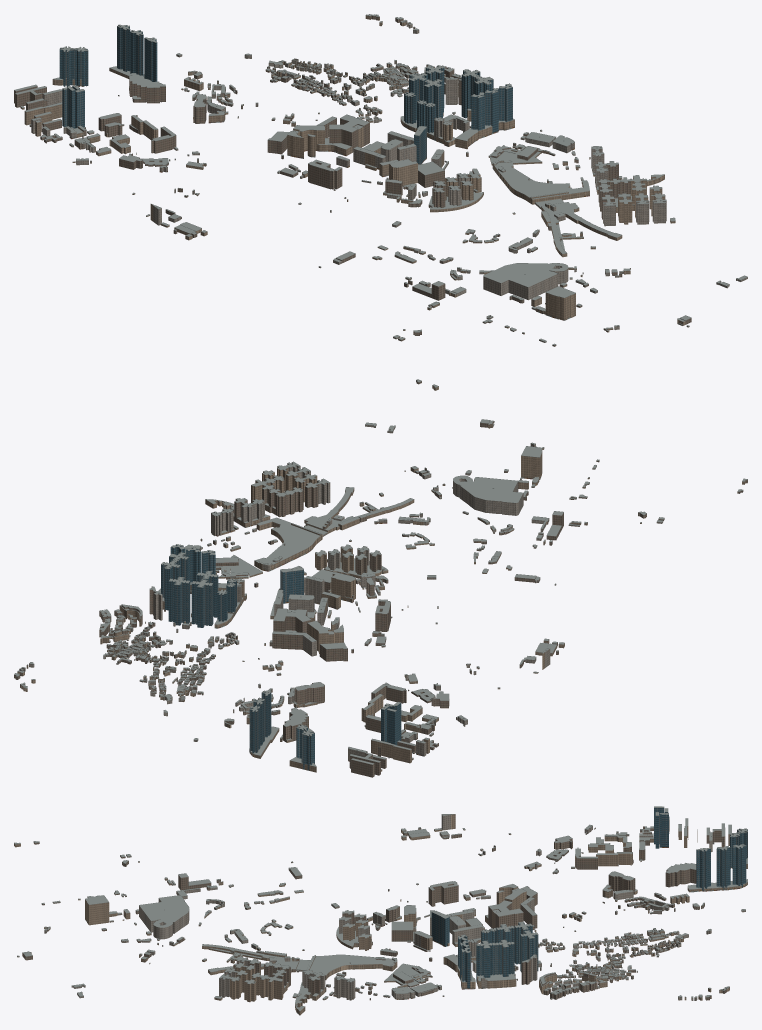
Rendered from lai-chi-kok-west-buildings.glb.
The picture shows the model from 3 angles, top to bottom: view 1: azimuth 30°, elevation 25°; view 2: azimuth 150°, elevation 25°; view 3: azimuth 270°, elevation 25°; orthographic projection. The views are drawn at different scales.
Parts seen in each view (by area): view 1: District_-32_-35, District_-29_-41, District_-29_-39, District_-31_-40, District_-29_-42, District_-31_-39, District_-28_-36, District_-32_-42, District_-29_-36, District_-33_-47, District_-31_-41, District_-36_-45 (+21 smaller); view 2: District_-32_-35, District_-29_-42, District_-29_-39, District_-29_-43, District_-28_-37, District_-31_-40, District_-29_-36, District_-31_-39, District_-28_-38, District_-36_-46, District_-33_-47, District_-30_-41 (+19 smaller); view 3: District_-32_-35, District_-33_-47, District_-28_-42, District_-29_-42, District_-29_-39, District_-28_-36, District_-28_-38, District_-28_-37, District_-31_-39, District_-29_-43, District_-31_-41, District_-33_-41 (+30 smaller).
Part boxes in pixels (x1,y1,x2,y2): District_-32_-35: [483, 263, 568, 300]; District_-29_-41: [415, 88, 514, 149]; District_-29_-39: [493, 161, 589, 204]; District_-31_-40: [379, 143, 444, 189]; District_-29_-42: [409, 69, 480, 127]; District_-31_-39: [406, 177, 483, 212]; District_-28_-36: [618, 185, 675, 224]; District_-32_-42: [287, 125, 351, 158]; District_-29_-36: [541, 200, 622, 257]; District_-33_-47: [109, 24, 144, 78]; District_-31_-41: [353, 131, 413, 170]; District_-36_-45: [35, 85, 100, 149]; District_-32_-35: [453, 475, 523, 522]; District_-29_-42: [161, 560, 218, 627]; District_-29_-39: [254, 517, 322, 570]; District_-29_-43: [140, 576, 191, 642]; District_-28_-37: [251, 475, 303, 517]; District_-31_-40: [304, 569, 355, 609]; District_-29_-36: [304, 478, 414, 533]; District_-31_-39: [323, 544, 388, 589]; District_-28_-38: [205, 498, 270, 534]; District_-36_-46: [371, 708, 426, 763]; District_-33_-47: [249, 698, 279, 758]; District_-30_-41: [227, 567, 303, 619]; District_-32_-35: [139, 895, 209, 939]; District_-33_-47: [687, 844, 747, 892]; District_-28_-42: [476, 940, 530, 988]; District_-29_-42: [495, 921, 532, 980]; District_-29_-39: [306, 954, 394, 980]; District_-28_-36: [214, 962, 256, 1002]; District_-28_-38: [295, 970, 345, 1015]; District_-28_-37: [251, 962, 300, 1000]; District_-31_-39: [336, 910, 387, 949]; District_-29_-43: [520, 930, 573, 981]; District_-31_-41: [446, 909, 484, 942]; District_-33_-41: [428, 881, 485, 906].
Size of what is drawn, in the model's own units: 1247 by 127 by 2069.
7 materials, 6 textured.
